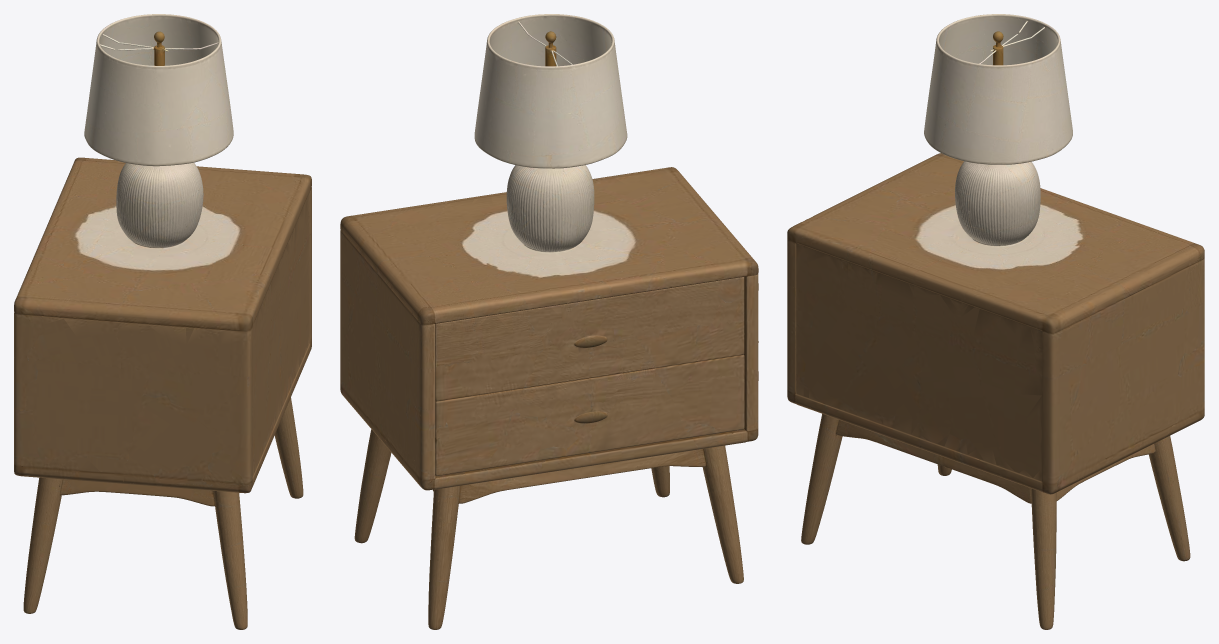
The model's file is room_nightstand_front.glb.
3 views of the same model, side by side, from view 1: azimuth 30°, elevation 25°; view 2: azimuth 150°, elevation 25°; view 3: azimuth 270°, elevation 25° (orthographic). The views are drawn at different scales.
Visible parts, largest first — view 1: mesh_node.006; view 2: mesh_node.006; view 3: mesh_node.006.
Part boxes in pixels (x1,y1,x2,y2): mesh_node.006: [14, 14, 311, 629]; mesh_node.006: [340, 14, 758, 629]; mesh_node.006: [787, 14, 1204, 629].
Bounding box in the file's own units: 0.4425 × 0.6255 × 0.4569.
Materials: 1 (1 with a texture image).
